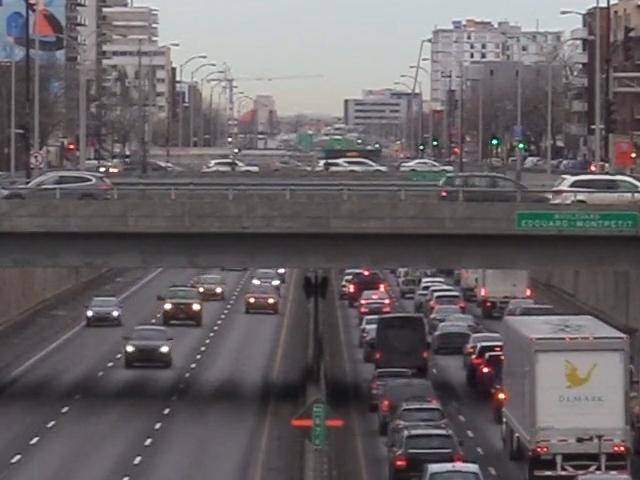car: (383, 420, 464, 480), (370, 376, 439, 435), (462, 333, 508, 393), (121, 325, 176, 369), (380, 406, 450, 438), (428, 321, 476, 365), (157, 287, 204, 326), (412, 459, 491, 480), (83, 296, 127, 329), (424, 289, 466, 322), (243, 287, 281, 315), (192, 272, 229, 300), (417, 275, 452, 303), (248, 270, 284, 297), (359, 291, 394, 318), (506, 303, 558, 320), (449, 313, 487, 334), (456, 278, 482, 300), (396, 276, 420, 299)
pickup-truck: (358, 313, 393, 353), (350, 271, 383, 302)
truck: (500, 314, 636, 480), (462, 266, 527, 317)
van: (371, 310, 433, 378)
